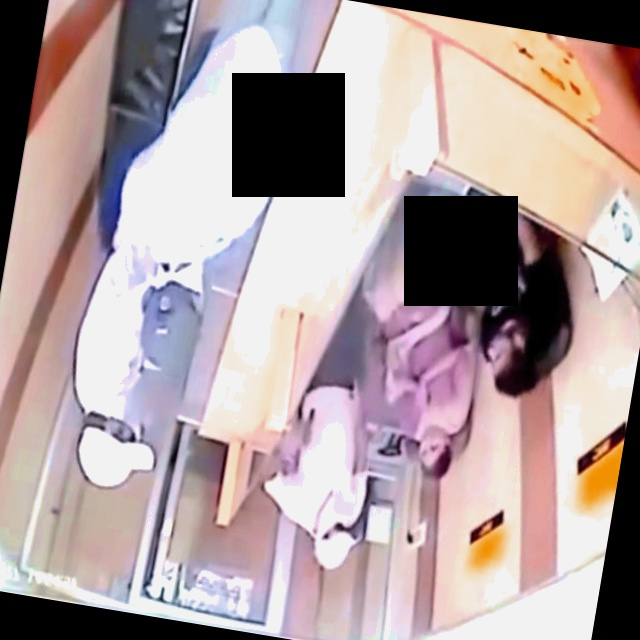gun: (296, 404, 322, 449)
